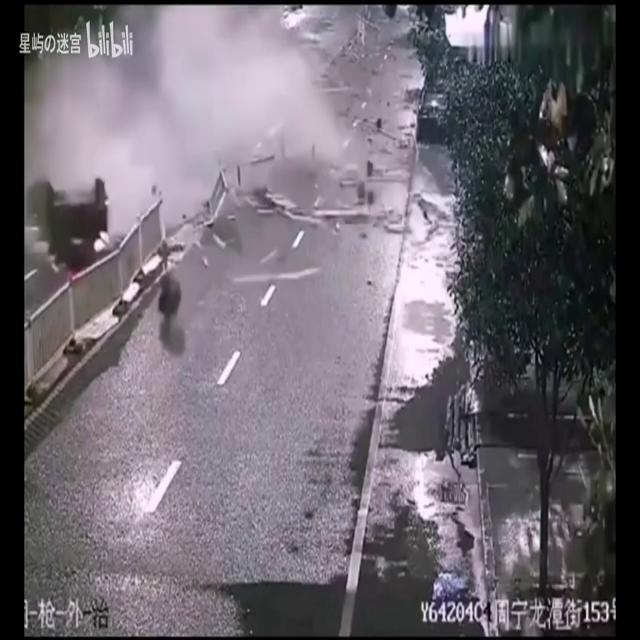accident: (24, 14, 458, 282)
